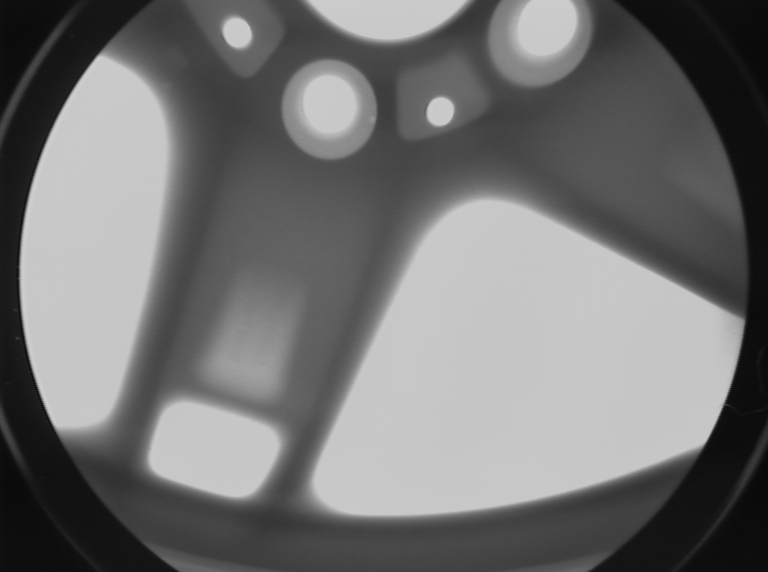defect: (158, 78, 174, 93)
